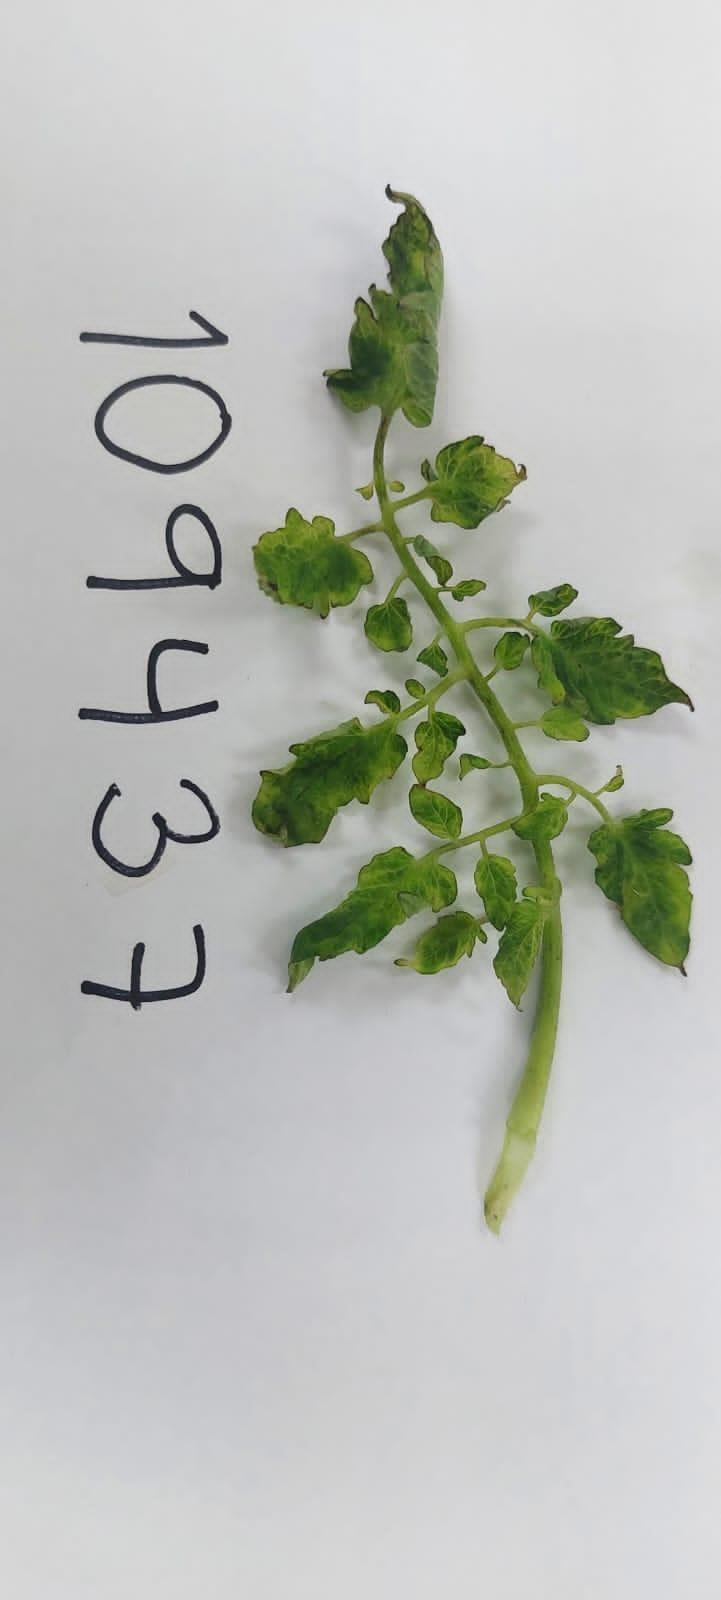Rugose leaf: (328, 189, 444, 429), (291, 847, 456, 985), (253, 718, 406, 847), (531, 615, 690, 724), (587, 809, 690, 965), (253, 509, 372, 618), (428, 435, 525, 529), (399, 909, 484, 976)
Rugose stem: (391, 529, 537, 806), (484, 903, 563, 1232), (372, 418, 400, 538)
